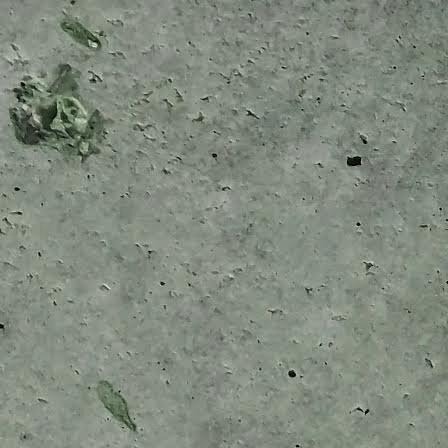spalling: (0, 63, 108, 181)
